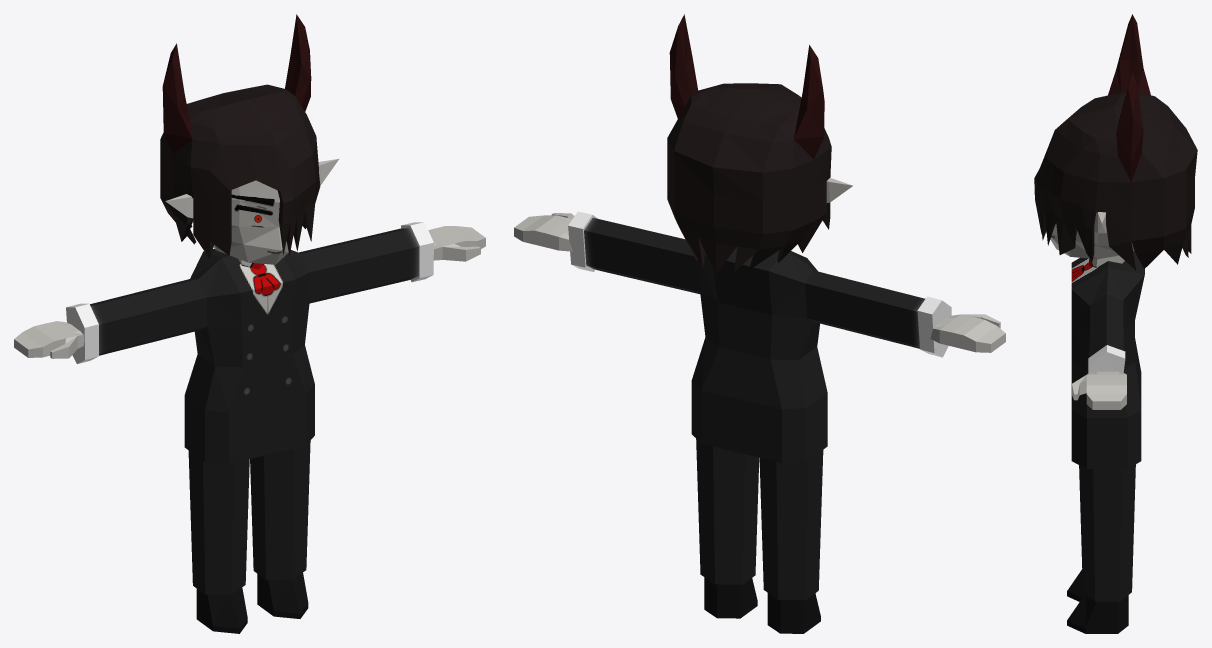
Rendered from RhaegalFinal.fbx.
3 renders of one model, left to right at view 1: azimuth 30°, elevation 25°; view 2: azimuth 150°, elevation 25°; view 3: azimuth 270°, elevation 25°, orthographic. The views are drawn at different scales.
Parts seen in each view (by area): view 1: Plane.001, Plane.002; view 2: Plane.001, Plane.002; view 3: Plane.001, Plane.002.
Part boxes in pixels (x1,y1,x2,y2): Plane.001: (14, 158, 485, 633); Plane.002: (160, 14, 320, 258); Plane.001: (514, 178, 1005, 633); Plane.002: (667, 14, 831, 273); Plane.001: (1046, 212, 1144, 633); Plane.002: (1034, 14, 1197, 270).
Size of the model in its own units: 166 by 199 by 51.92.
2 materials, 2 textured.
